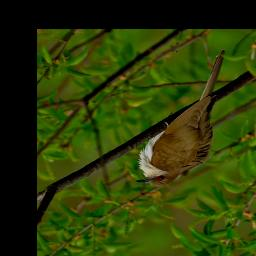Cuckoo: (134, 49, 228, 187)
